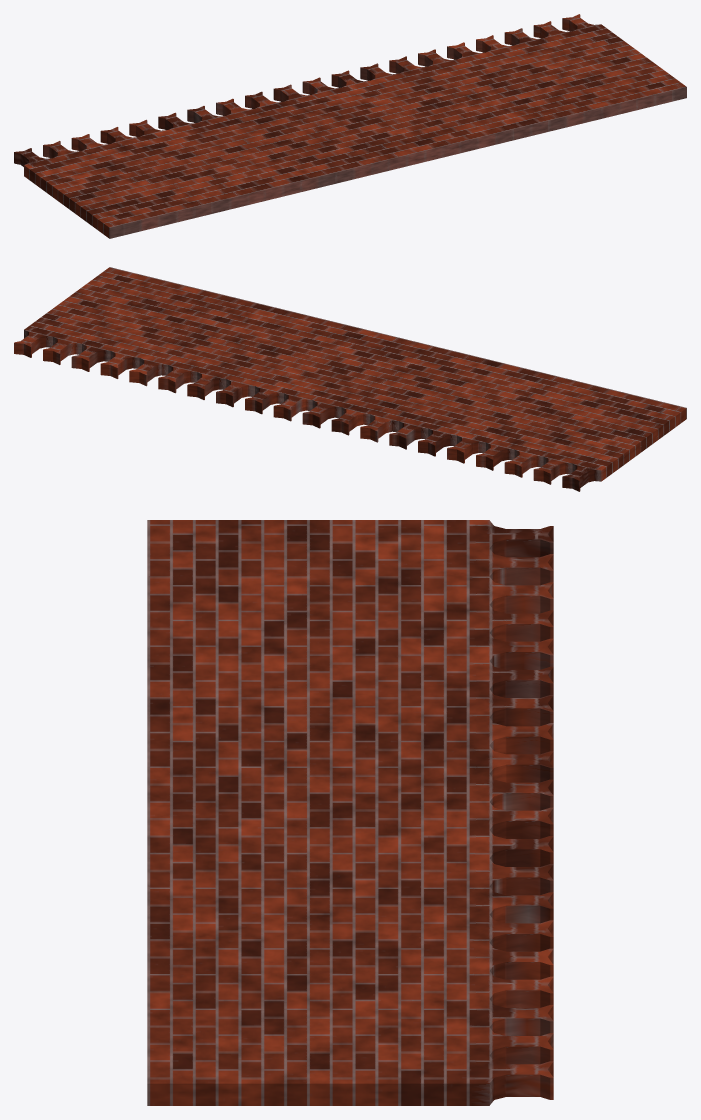
The model's file is Fence.fbx.
3 renders of one model, top to bottom at view 1: azimuth 30°, elevation 25°; view 2: azimuth 150°, elevation 25°; view 3: azimuth 270°, elevation 25°, orthographic. The views are drawn at different scales.
Visible parts, largest first — view 1: Fence; view 2: Fence; view 3: Fence.
Part boxes in pixels (x1=…): Fence: x1=14, y1=14, x2=686, y2=238; Fence: x1=14, y1=267, x2=686, y2=491; Fence: x1=147, y1=520, x2=553, y2=1105.
Bounding box in the file's own units: 3987 × 73.42 × 1216.
